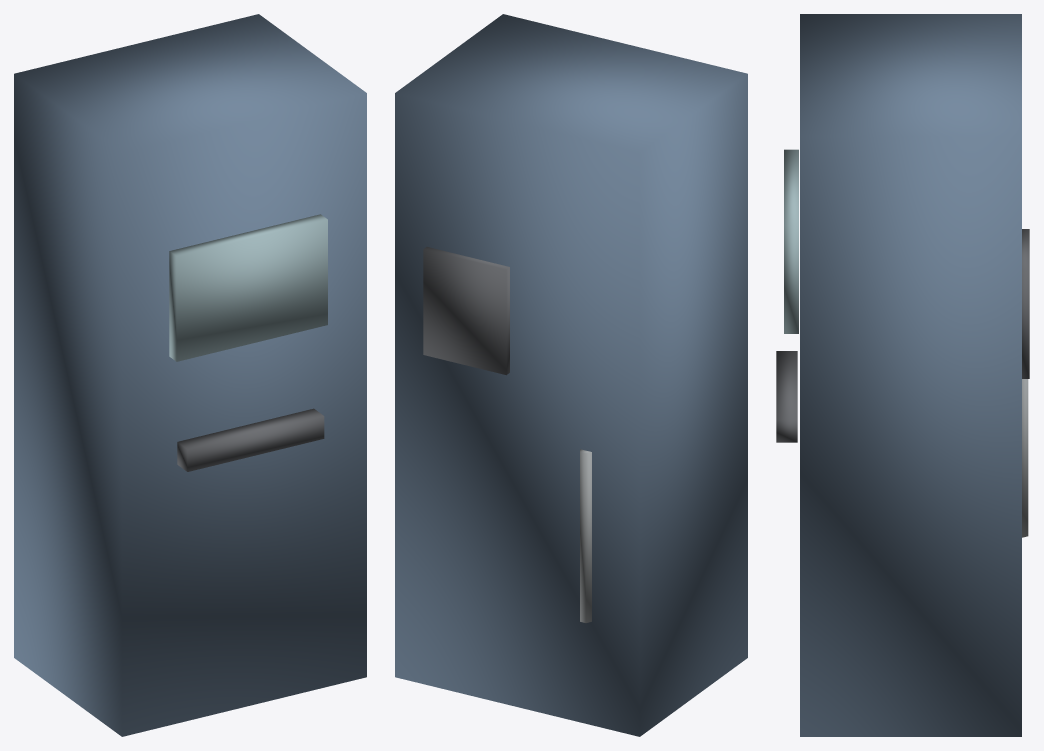
Rendered from information_kiosk__service.glb.
3 renders of one model, left to right at view 1: azimuth 30°, elevation 25°; view 2: azimuth 150°, elevation 25°; view 3: azimuth 270°, elevation 25°, orthographic. The views are drawn at different scales.
Visible parts, largest first — view 1: world; view 2: world; view 3: world.
Boxes of the visible parts, x1,y1,x2,y2 form: world: [14, 14, 366, 736]; world: [395, 14, 747, 736]; world: [776, 14, 1029, 736].
Size of the model in its own units: 0.68 by 1.55 by 0.5925.
